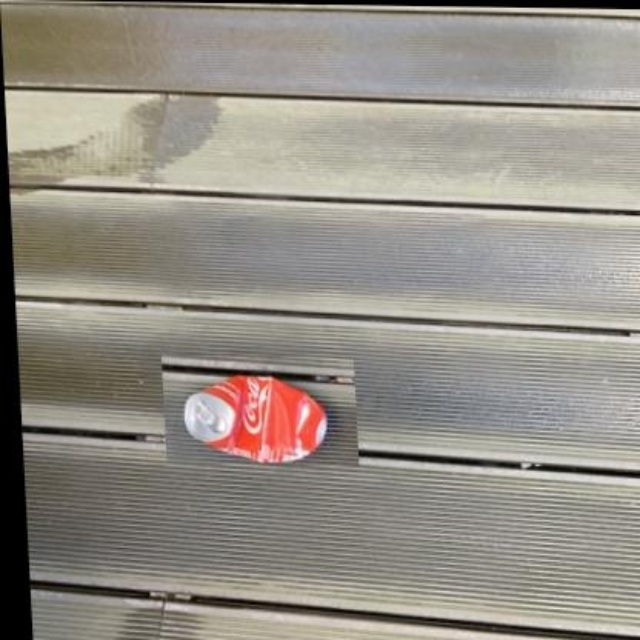trash: (185, 375, 326, 462)
